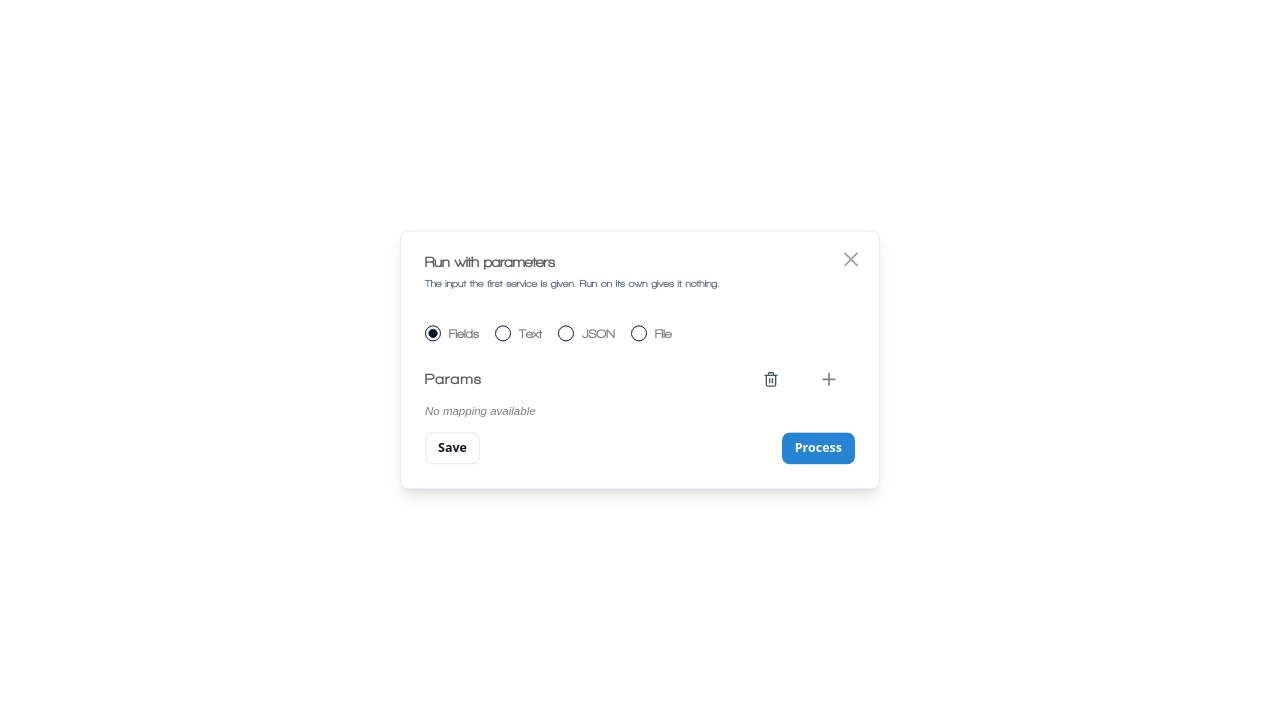
Test: RunParamsDialog › does not offer to run an empty text payload
Click the radio button named "Text" next to "Text". click: {"x": 503, "y": 334}
box: [495,326,511,342]
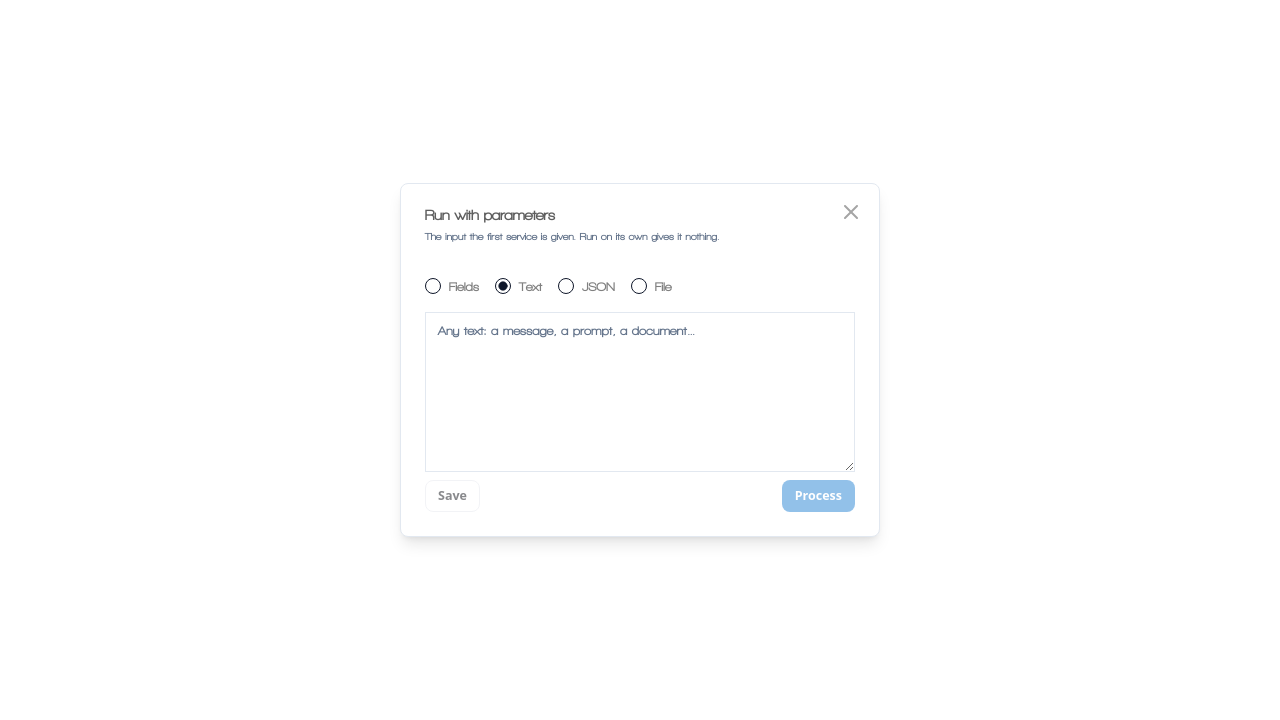
Expected: the button "Process" is disabled, [782,480,855,512]
